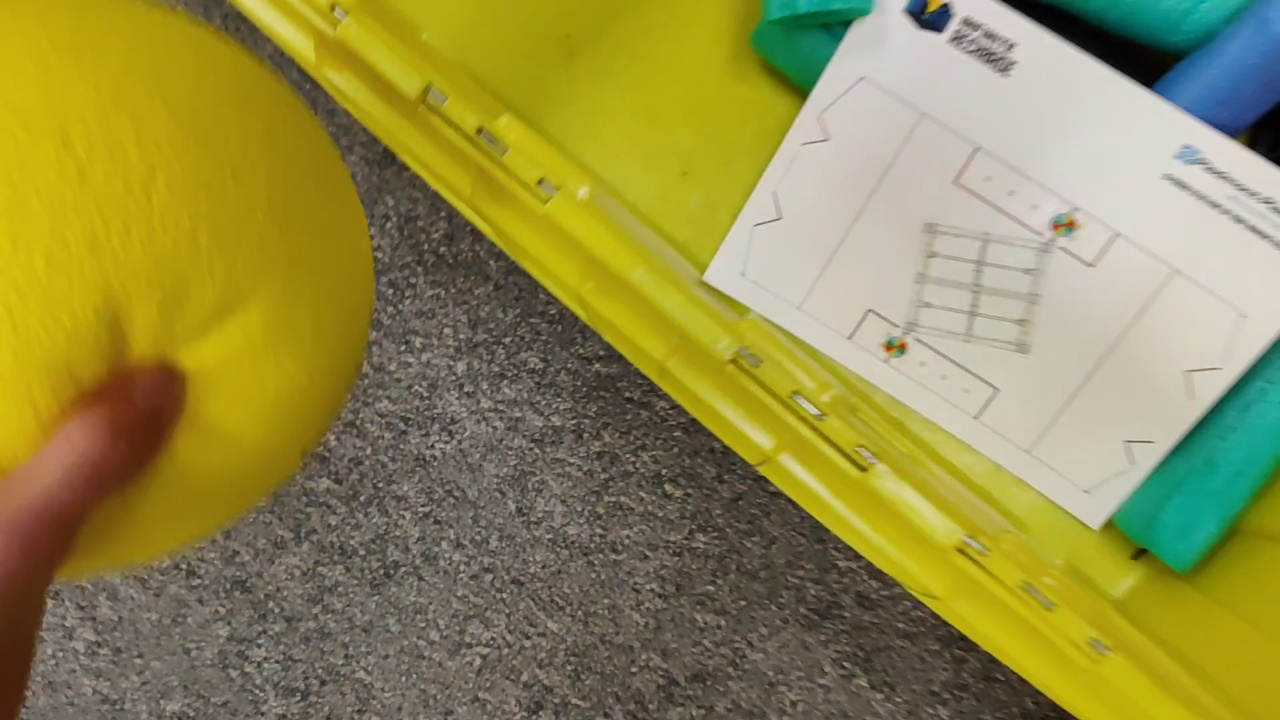Ball: (4, 4, 371, 586)
